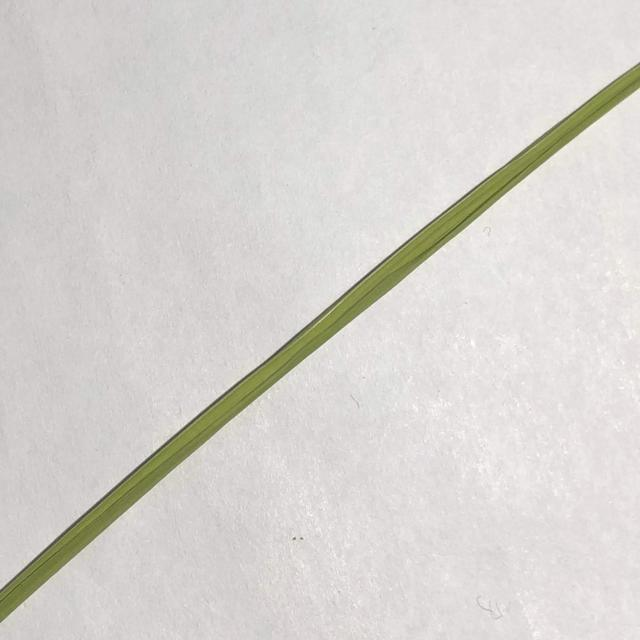Rice_Healthy: (0, 63, 639, 624)
